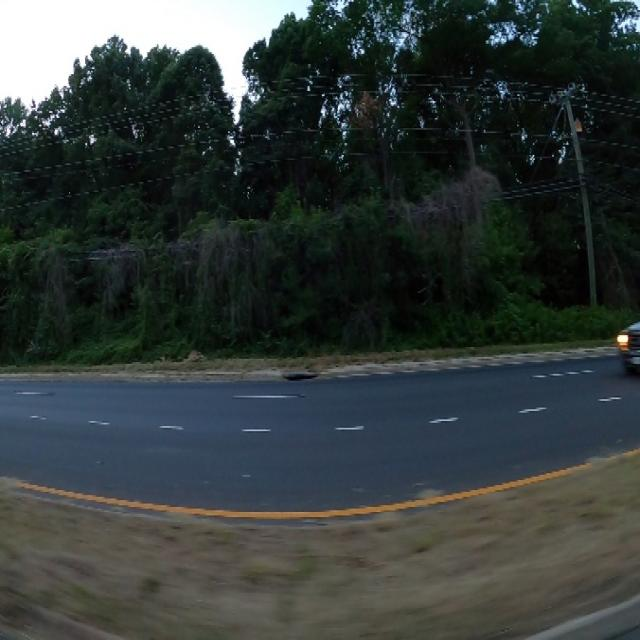cars: (614, 307, 640, 380)
